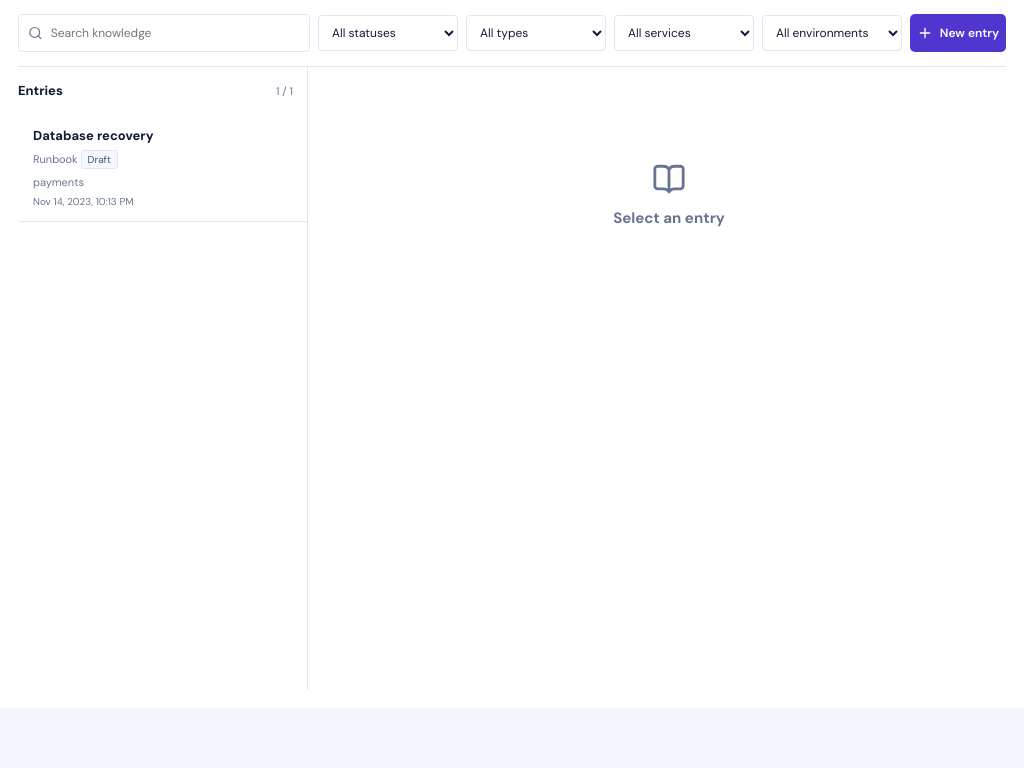
KnowledgePage › publishes, archives and restores using each returned revision
Click the text "Database recovery" at (93, 136), box [33,127,154,144]
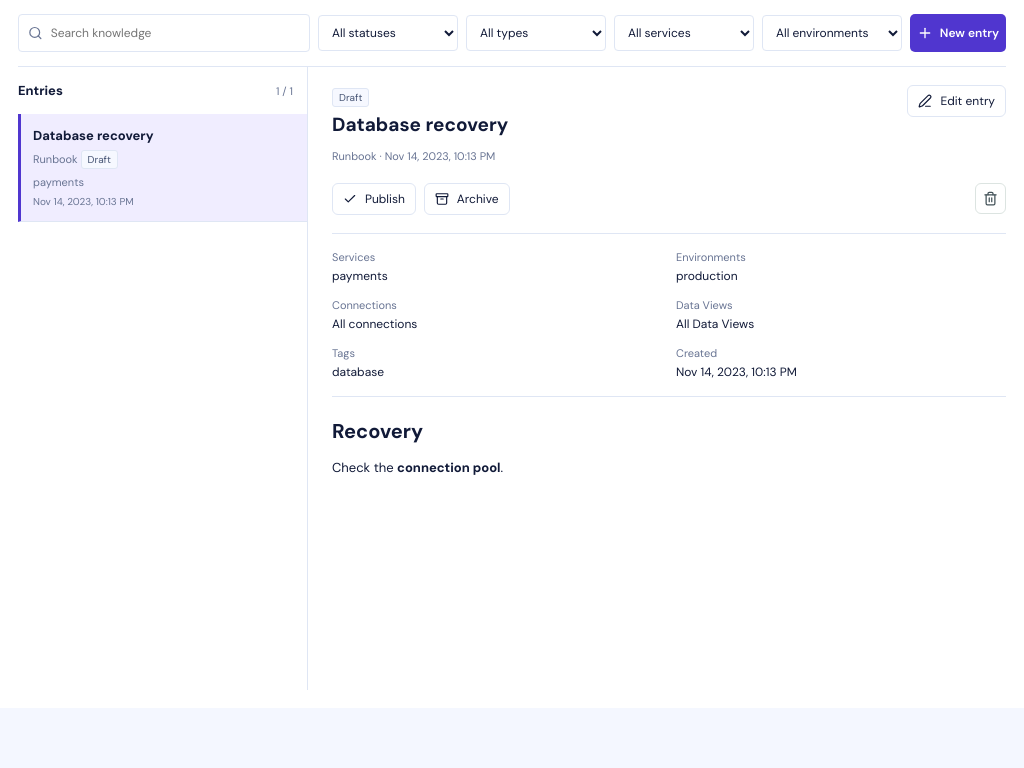
Click the button "Publish" at (374, 199), box [332,183,416,215]
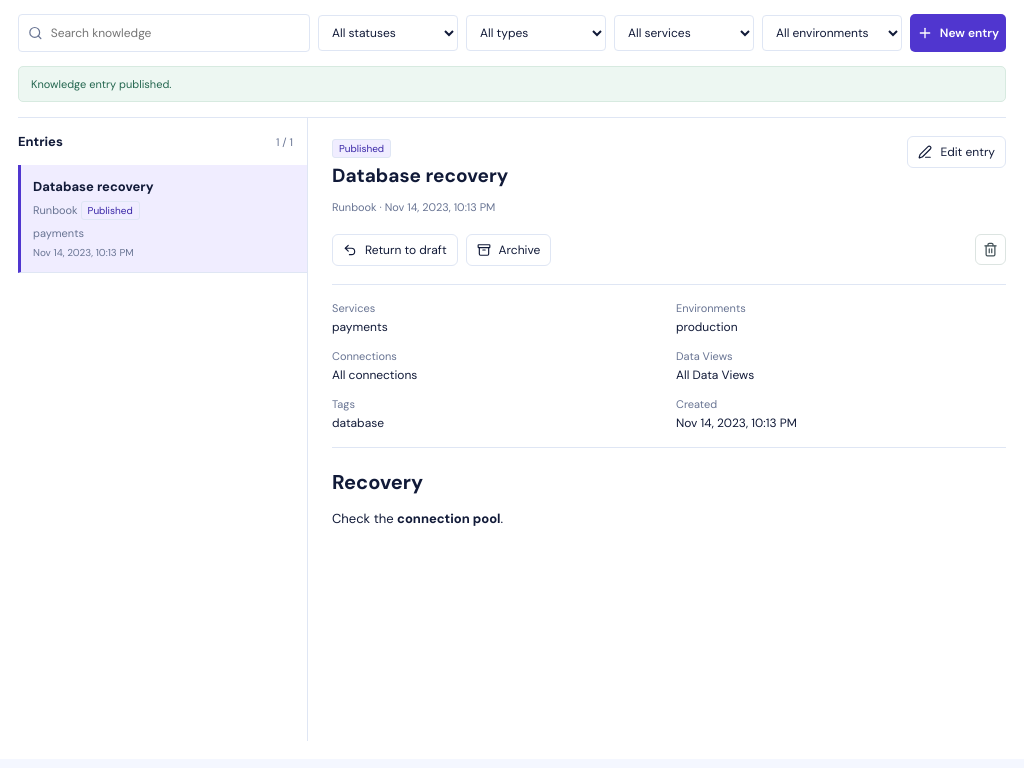
Result: the button "Return to draft" is shown at [332,234,458,266]
Click the button "Archive" at (508, 250), box [466,234,551,266]
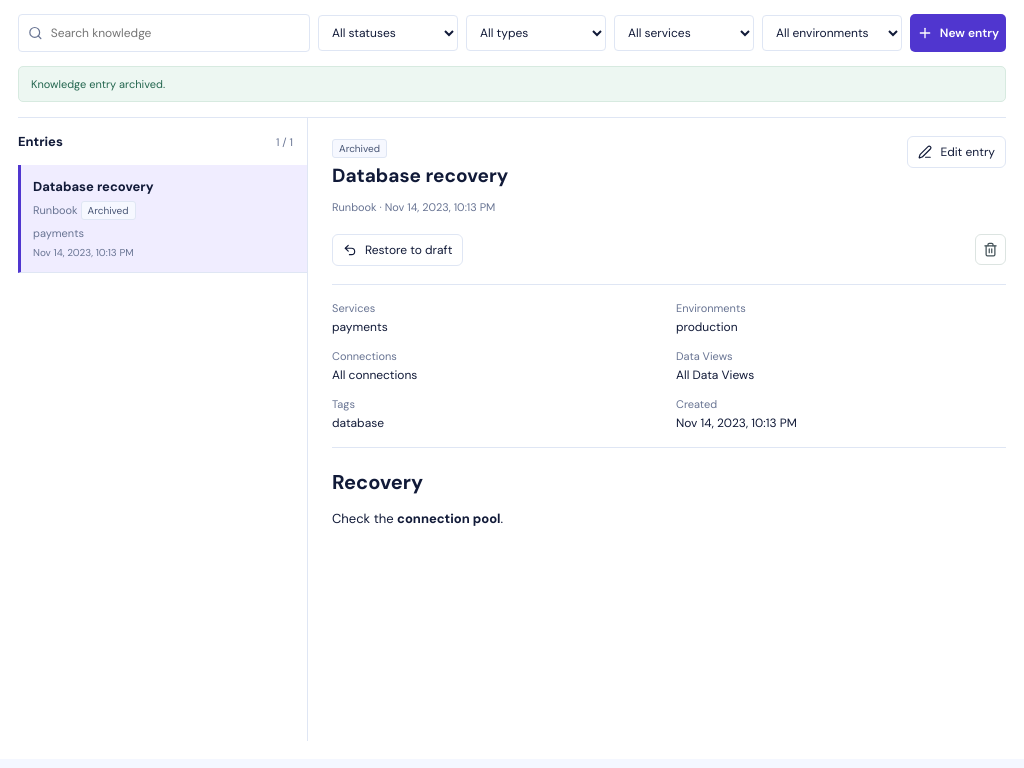
Click the button "Restore to draft" at (398, 250), box [332,234,463,266]
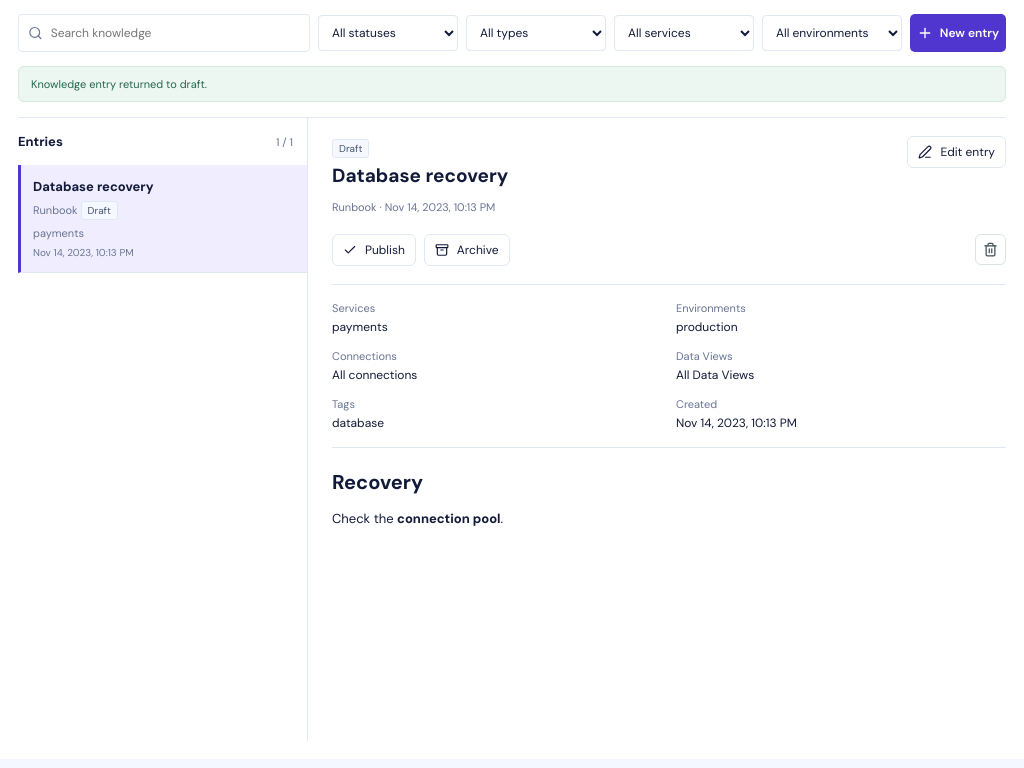
Result: the button "Publish" is shown at [332,234,416,266]
